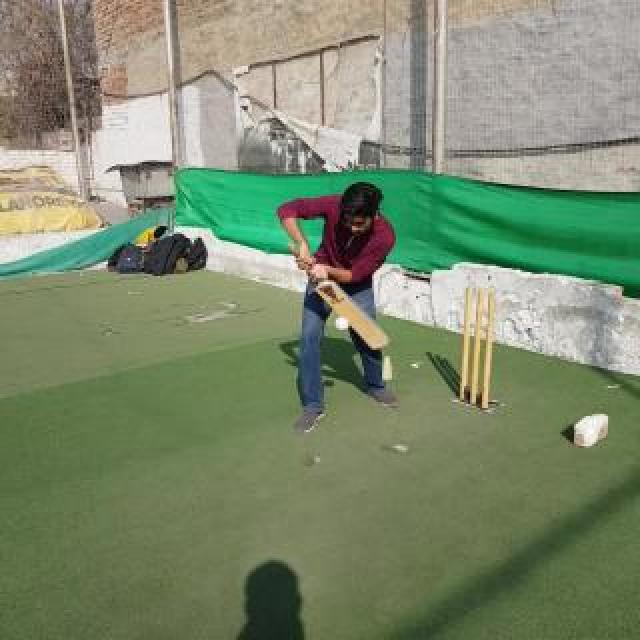ball: (334, 316, 350, 332)
bat: (286, 242, 390, 350)
